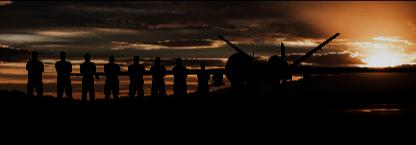MQ9: (70, 32, 415, 110)
